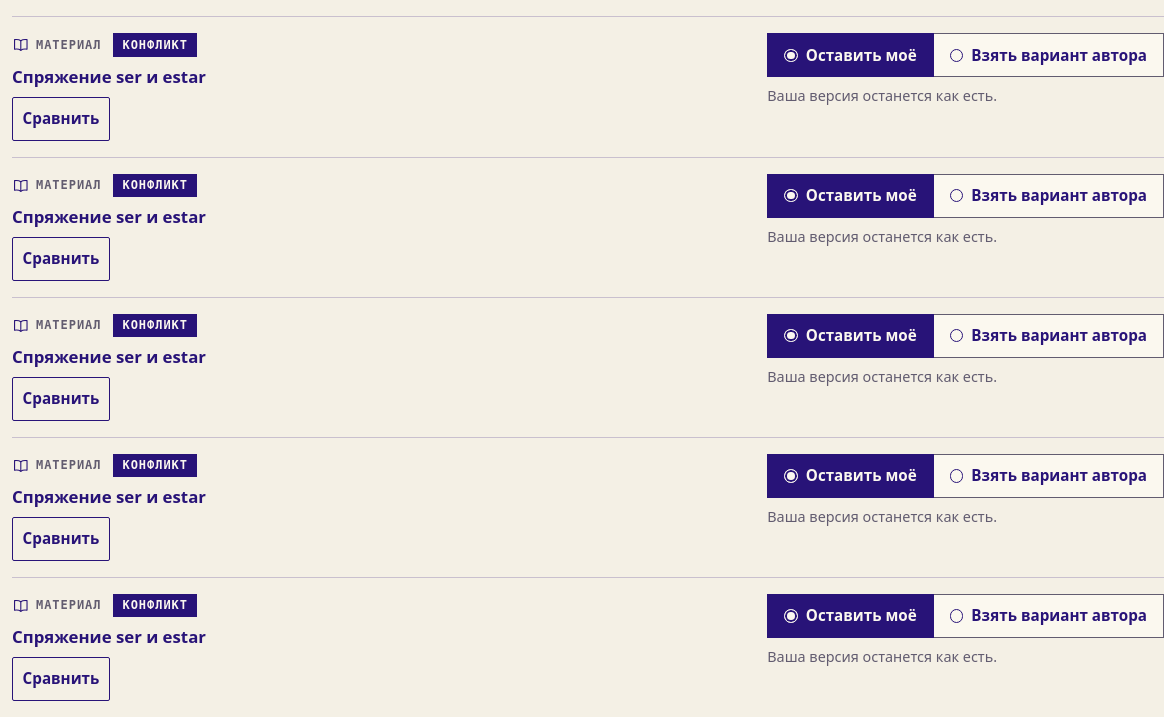
Test case: UpdateUnitRowComponent › has a live region that stays empty in any number of rows until the reader changes one
(page scrolled)
Click the 5th radio button labelled "Взять вариант автора": (1048, 616) [933,594,1163,638]
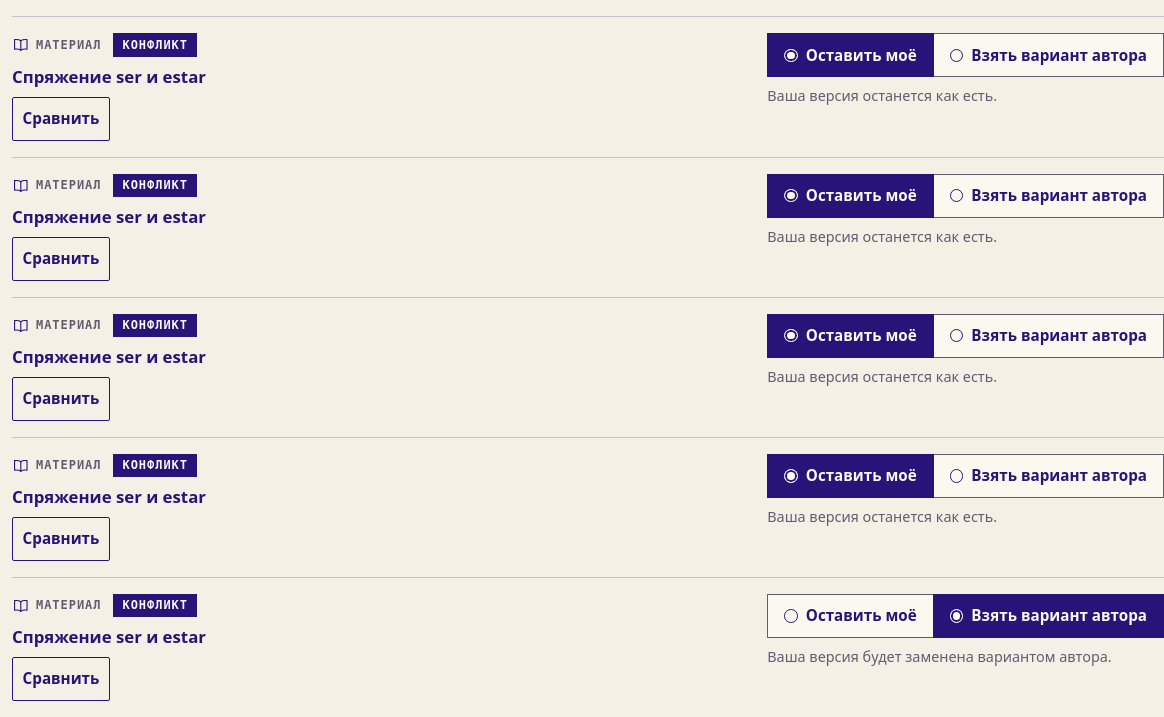
Expected: the text "Ваша версия будет заменена вариантом автора." is shown, [767,646,1163,667]
